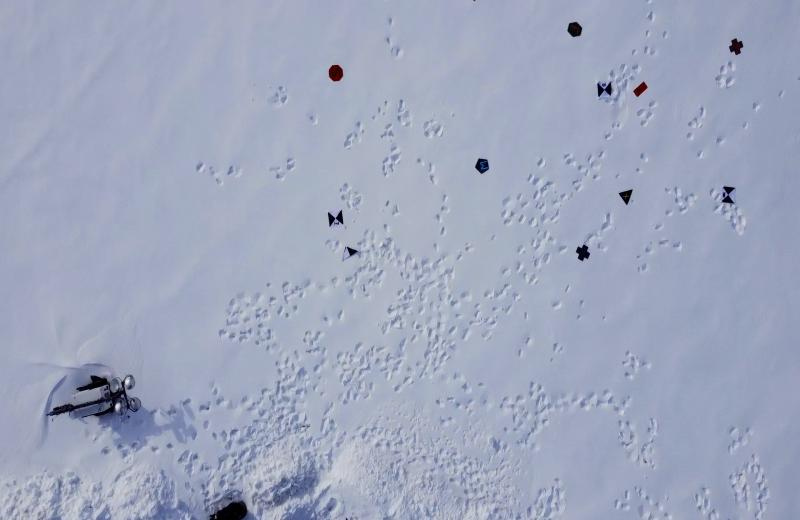Cross: (574, 243, 593, 262), (728, 36, 744, 58)
Hexagon: (566, 20, 584, 40)
Octagon: (328, 62, 344, 82)
Pentagon: (474, 156, 490, 175)
Rectangle: (633, 79, 649, 99)
Triangle: (616, 189, 634, 206)
